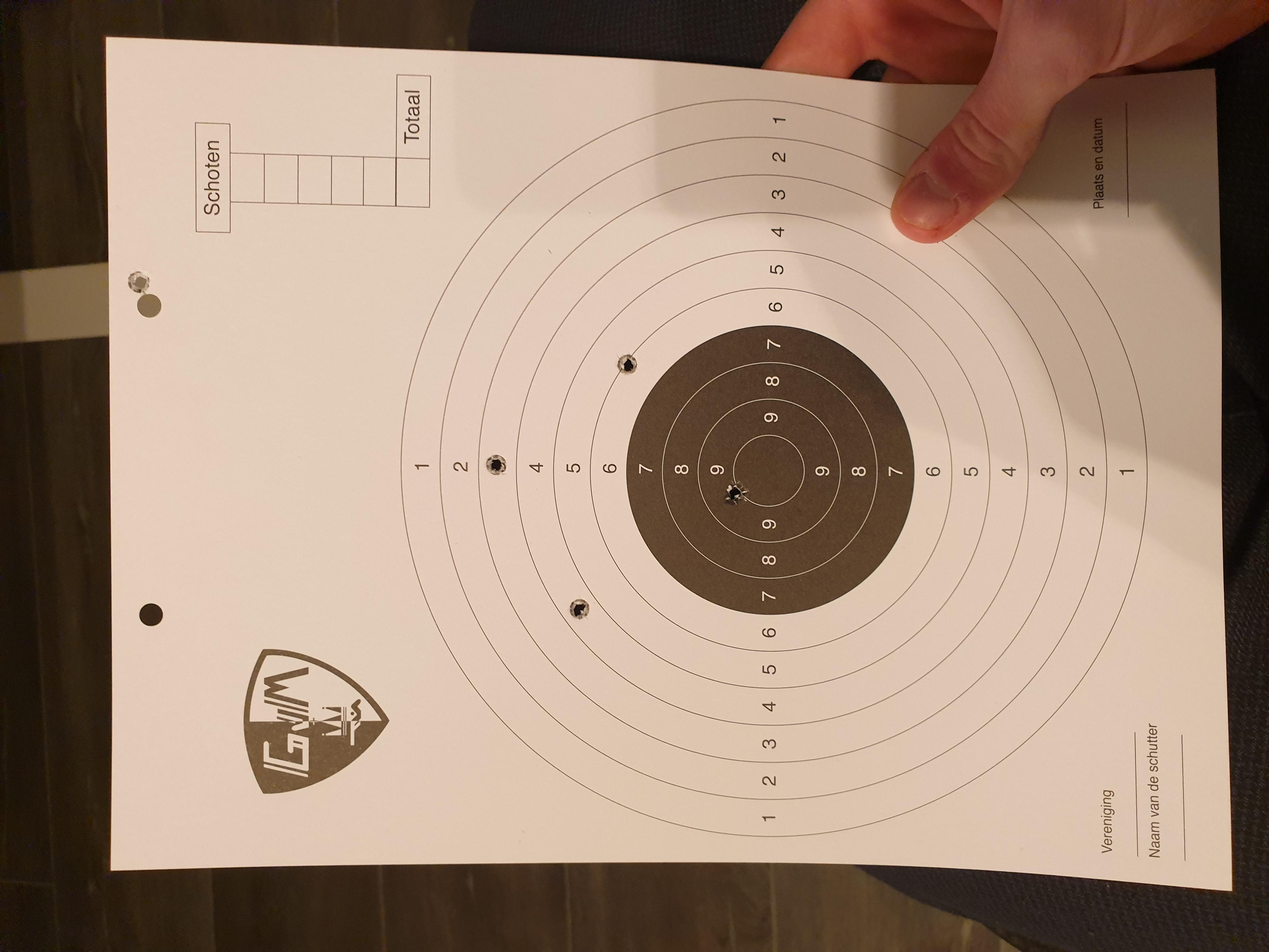hole: (594, 542, 629, 563), (877, 94, 909, 113), (441, 426, 474, 444), (633, 363, 665, 381), (768, 462, 799, 479)
